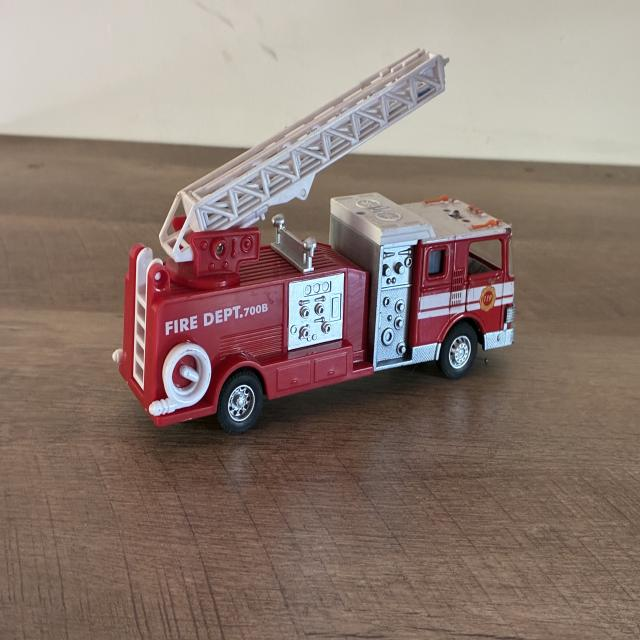fire-truck: (113, 50, 514, 432)
